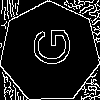G: (25, 27, 70, 67)
